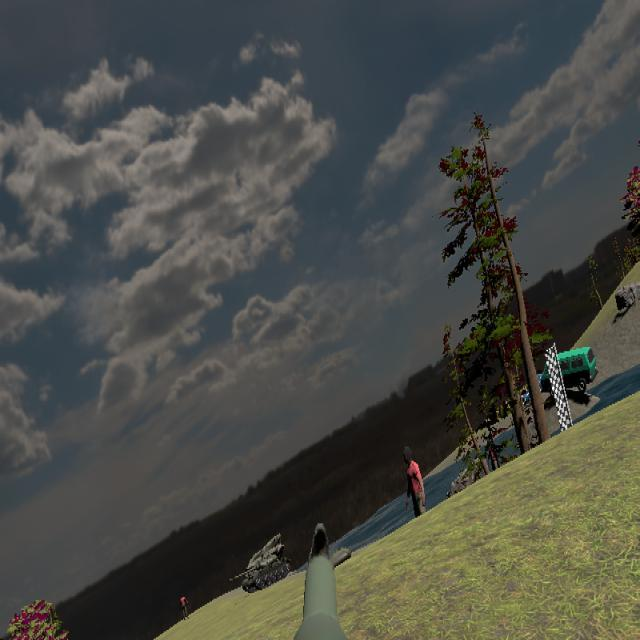Human: (403, 445, 429, 535)
Tank: (229, 531, 288, 594), (229, 552, 289, 594)
car: (558, 346, 597, 398), (559, 346, 597, 395)
